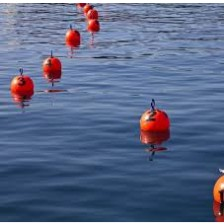buoy: (140, 109, 170, 136), (10, 75, 32, 98), (42, 58, 61, 77), (214, 173, 224, 204), (65, 29, 80, 46), (86, 19, 99, 31), (85, 9, 98, 20)
